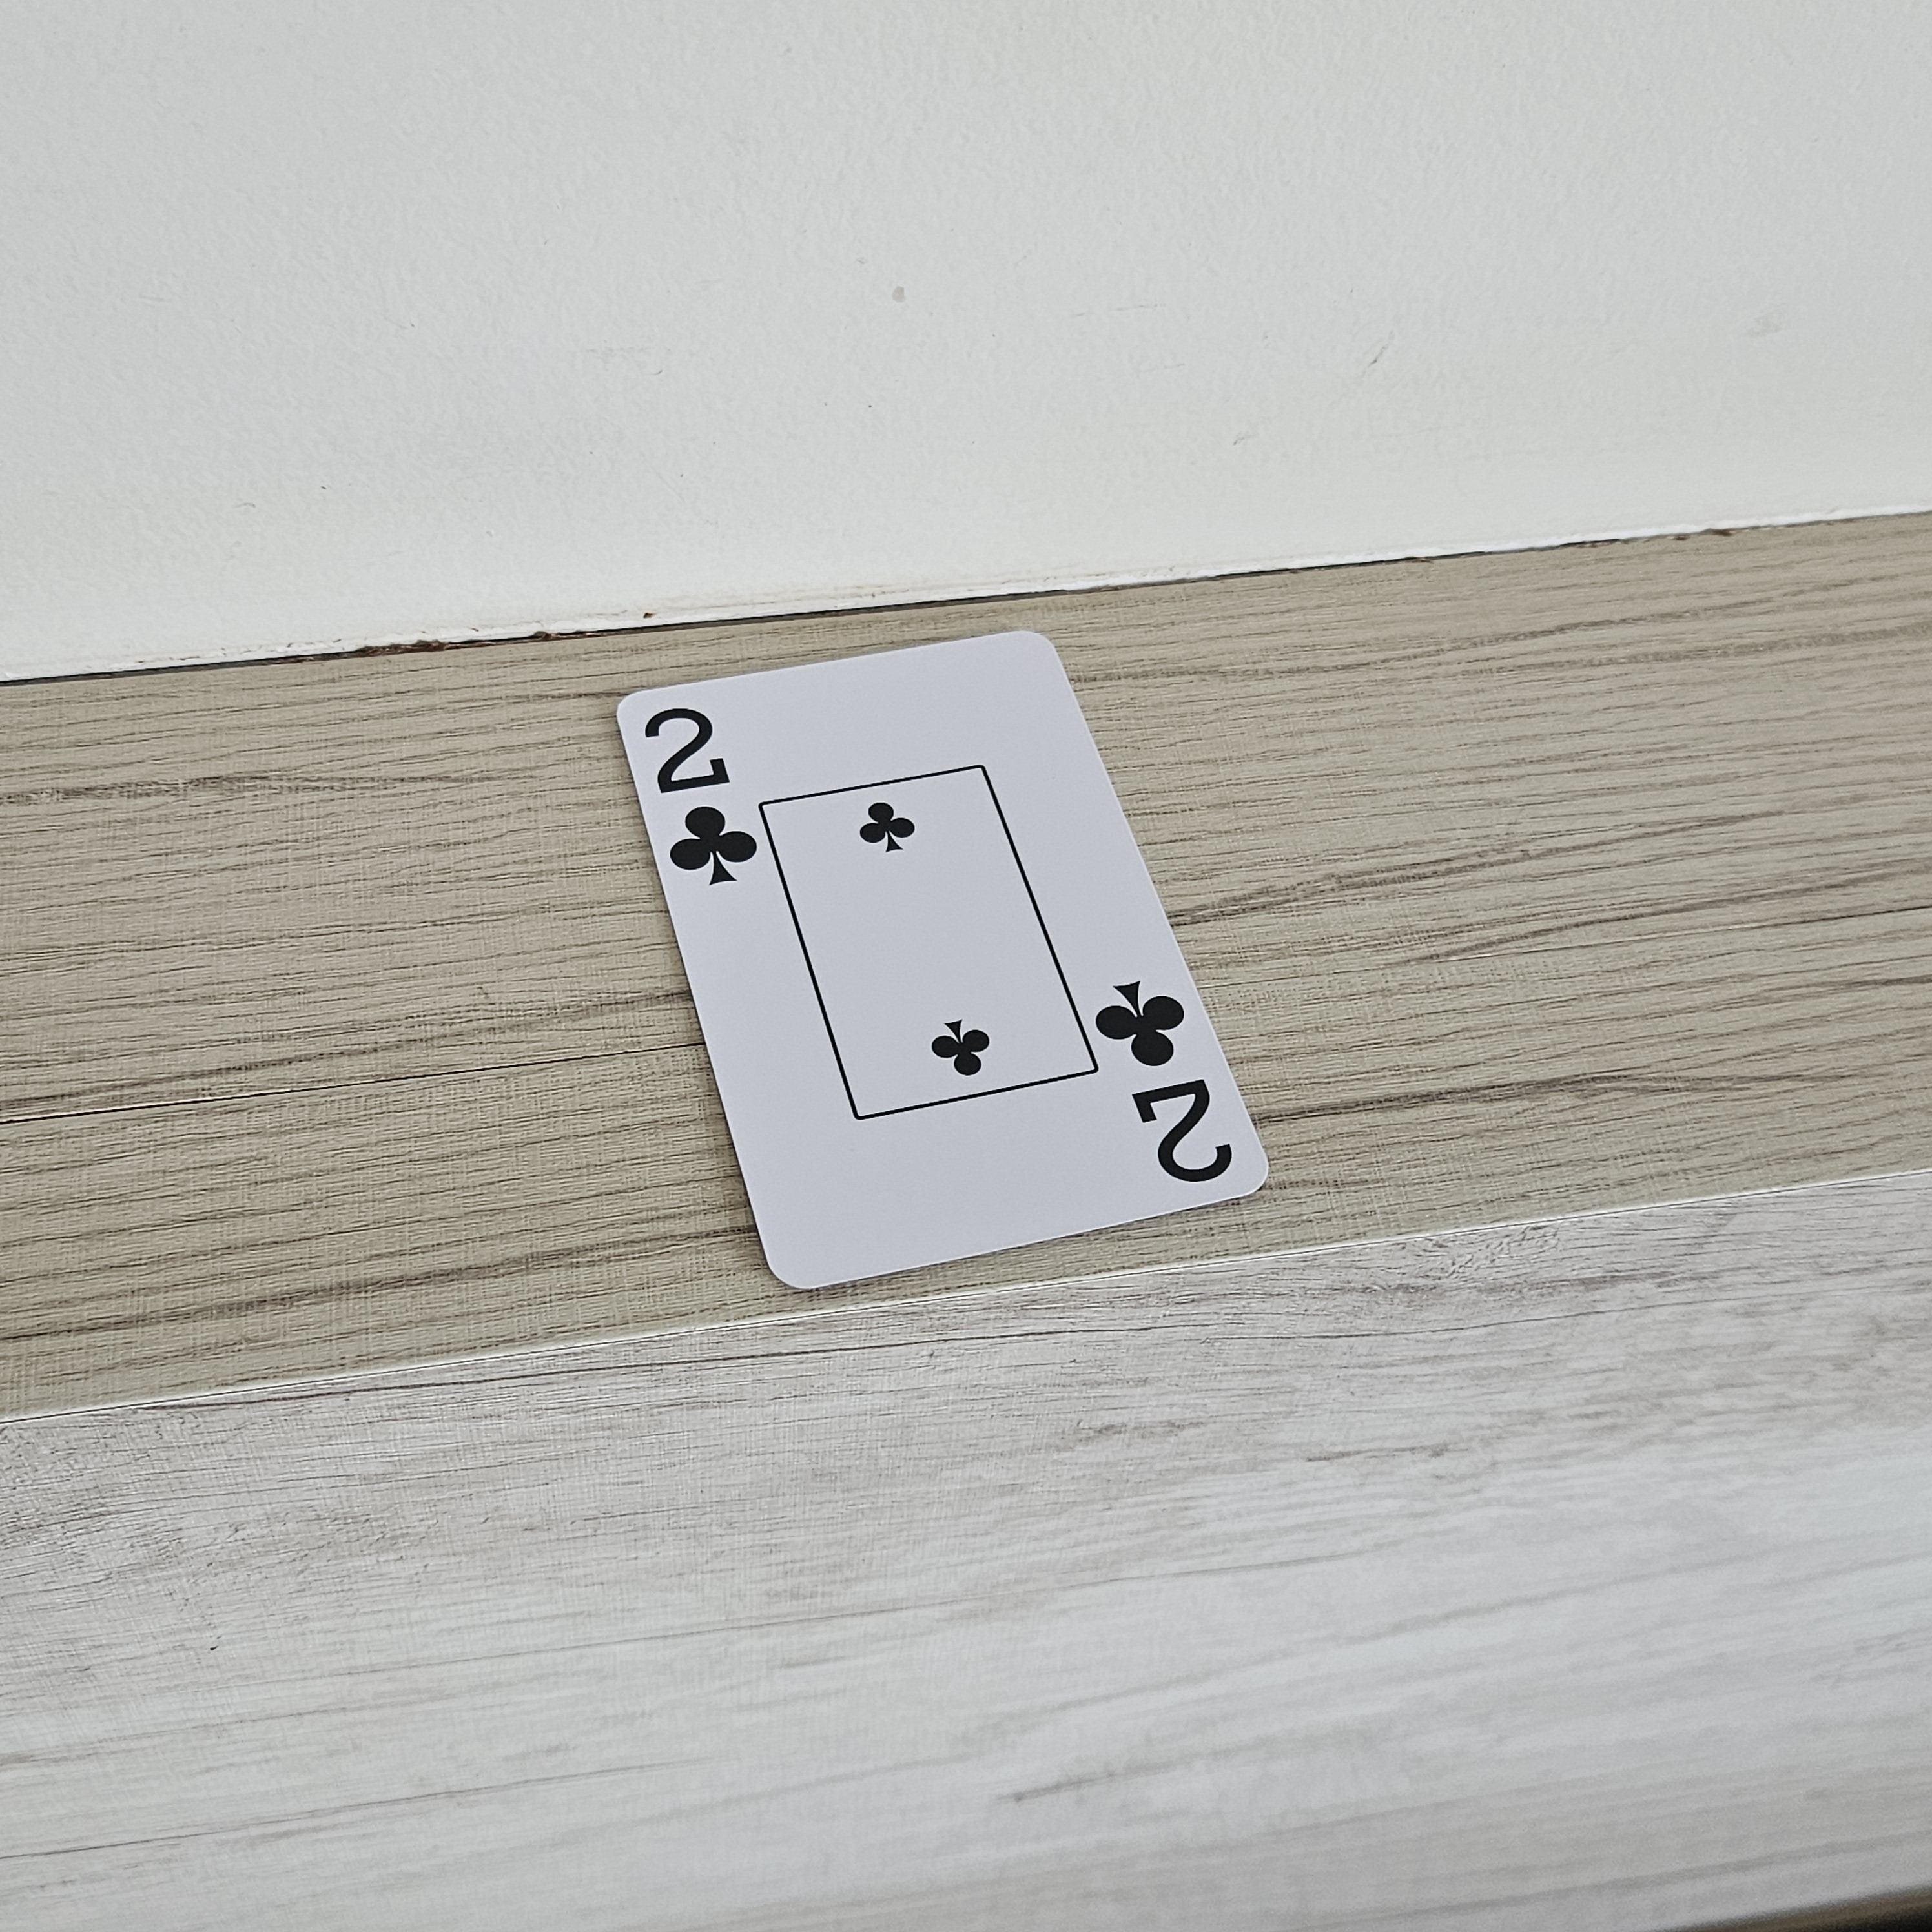2P: (1085, 973, 1247, 1191), (632, 695, 768, 893)
